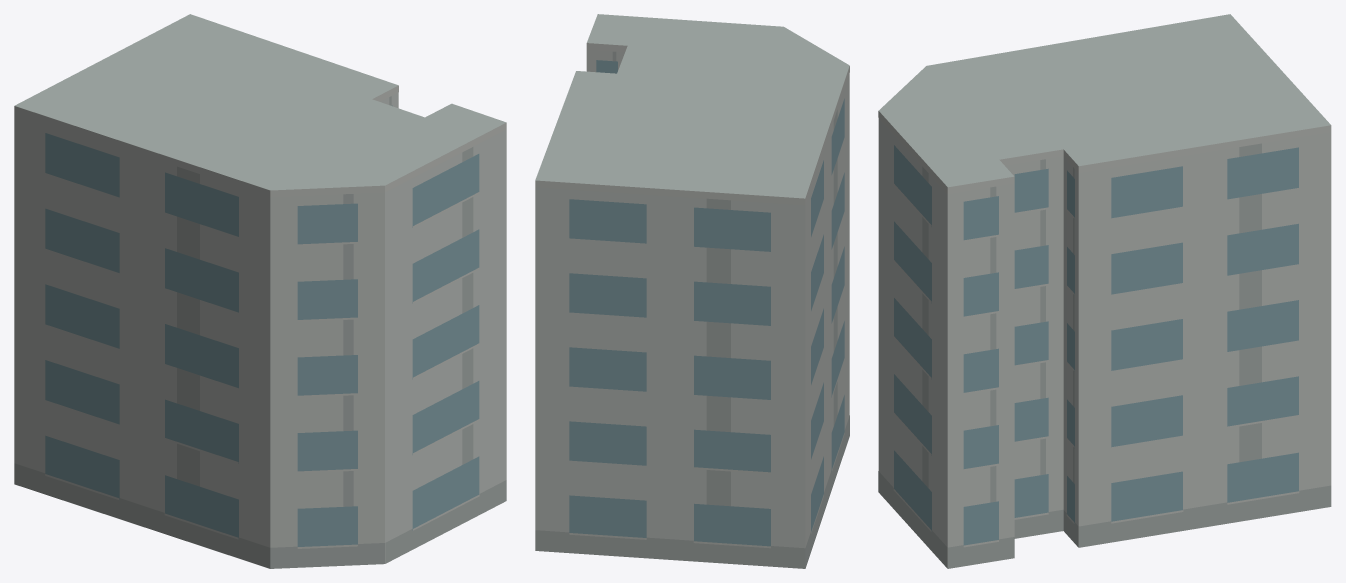
File: survey-upis-32851363.glb
3 views of the same model, side by side, from view 1: azimuth 30°, elevation 25°; view 2: azimuth 150°, elevation 25°; view 3: azimuth 270°, elevation 25° (orthographic). The views are drawn at different scales.
Parts seen in each view (by area): view 1: survey-upis-32851363.tmp; view 2: survey-upis-32851363.tmp; view 3: survey-upis-32851363.tmp.
Boxes of the visible parts, x1,y1,x2,y2 form: survey-upis-32851363.tmp: (14, 14, 506, 568); survey-upis-32851363.tmp: (535, 14, 849, 568); survey-upis-32851363.tmp: (878, 14, 1331, 568).
Size of the model in its own units: 13.01 by 13.35 by 14.37.
